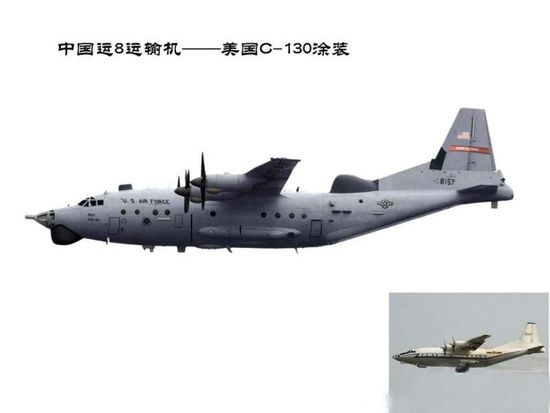airplane: (24, 94, 515, 254), (392, 319, 546, 374)
